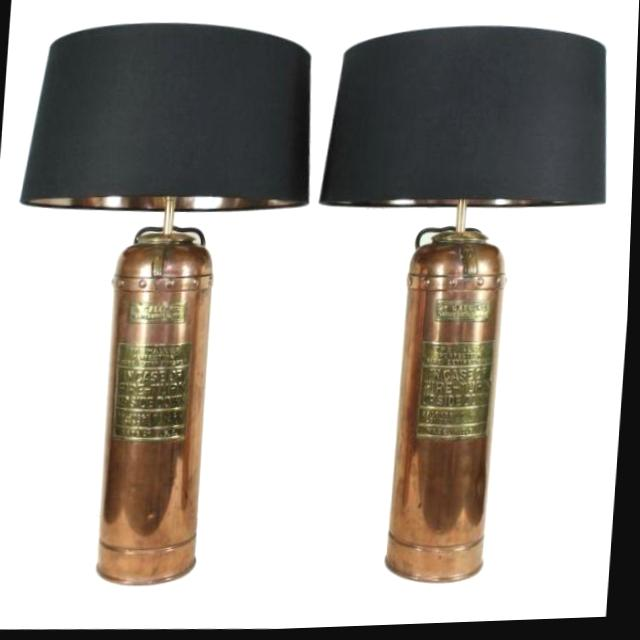FireExtinguisher: (87, 223, 222, 595), (384, 224, 513, 593)
